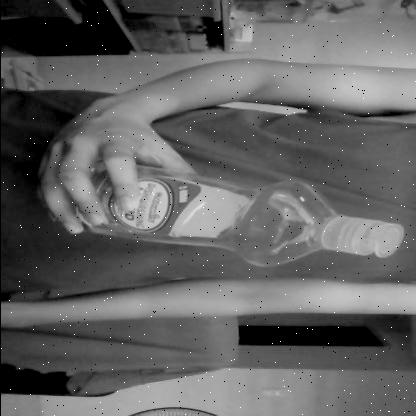Plastic Bottle: (75, 164, 404, 270)
